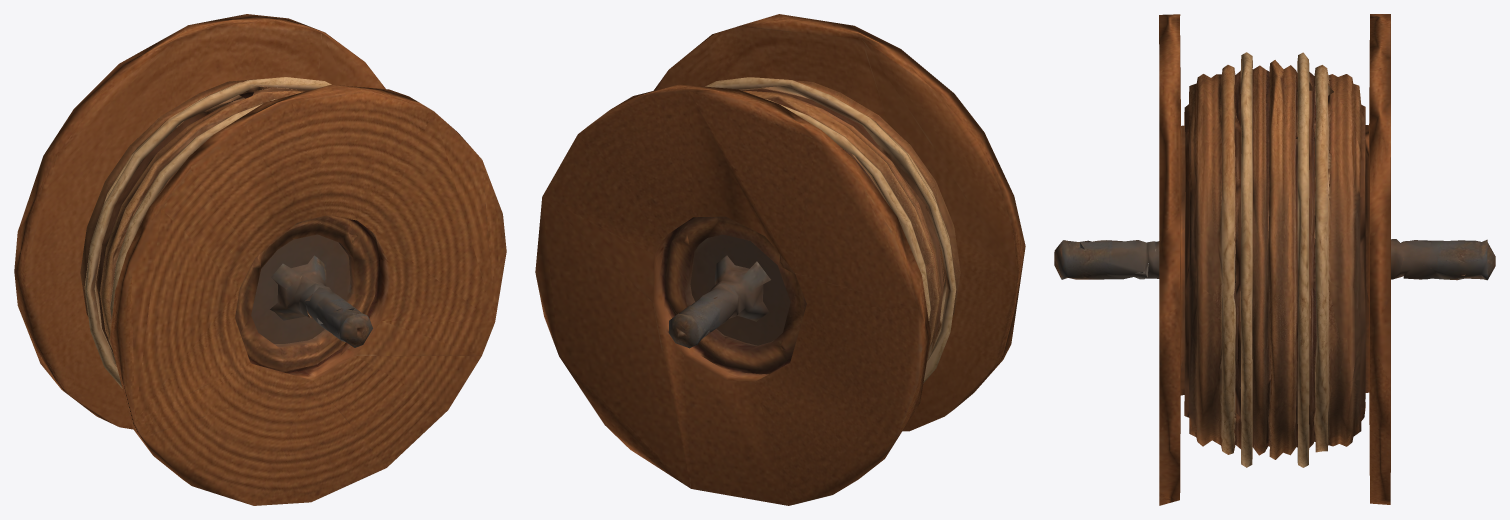
The model's file is cable_spool.glb.
3 renders of one model, left to right at view 1: azimuth 30°, elevation 25°; view 2: azimuth 150°, elevation 25°; view 3: azimuth 270°, elevation 25°, orthographic. The views are drawn at different scales.
Size of the model in its own units: 1.89 by 1.89 by 1.69.
1 material, 1 textured.
